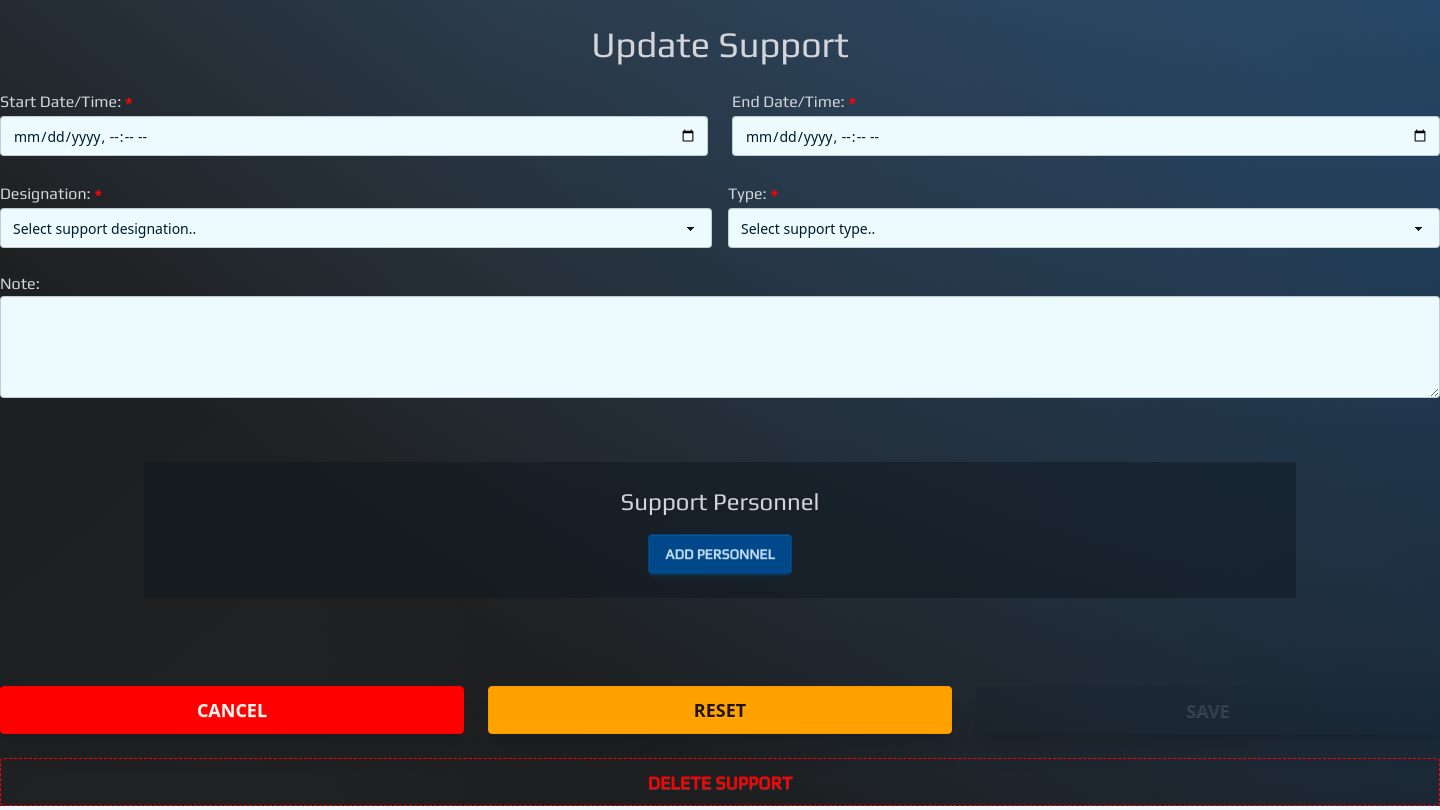
Test: UpdateSupportForm › changes Delete button label to Confirm Delete on first click
What coordinates should you click on to do the following:
click the button "Delete Support"
I would click on:
 (720, 782)
Its box is x1=0 y1=758 x2=1439 y2=806.
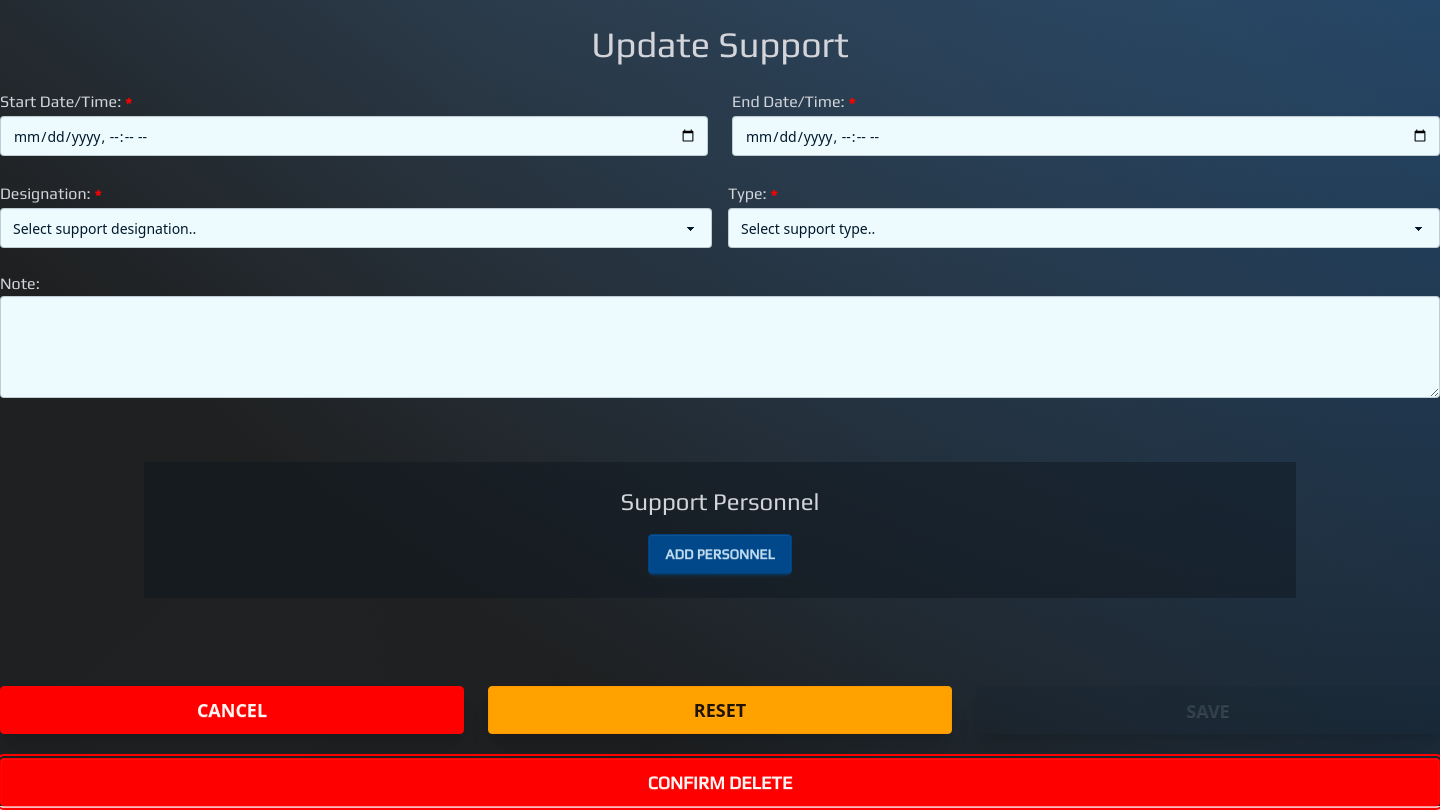
Now the button "Confirm Delete" is shown, box x1=0 y1=758 x2=1439 y2=806
